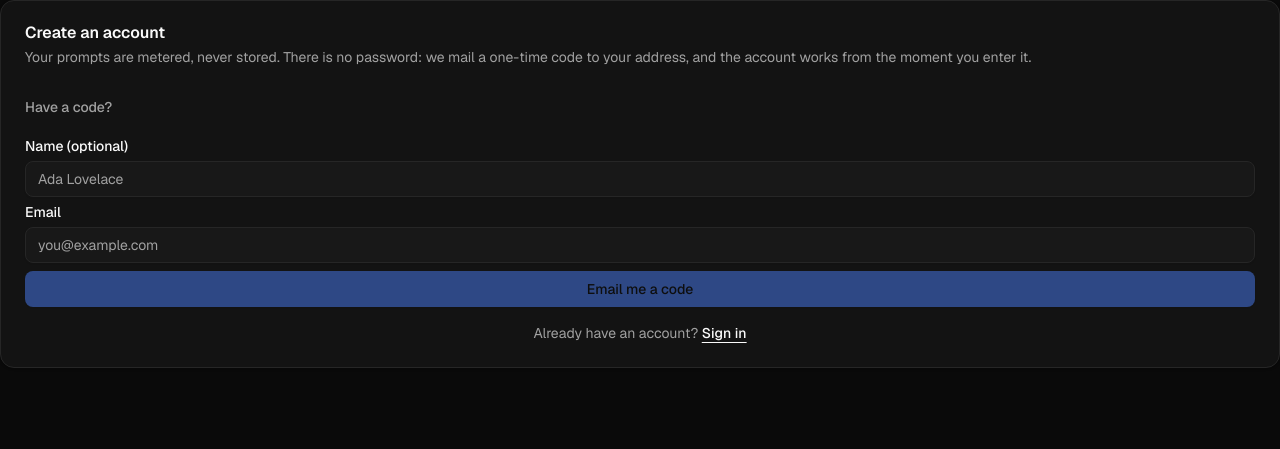
it: SignUpForm › says a wrong code is wrong, and creates nothing
The width and height of the screenshot is (1280, 449).
Type "dev@example.com" into the field labelled "Email" at (640, 245), box [25,227,1255,263]
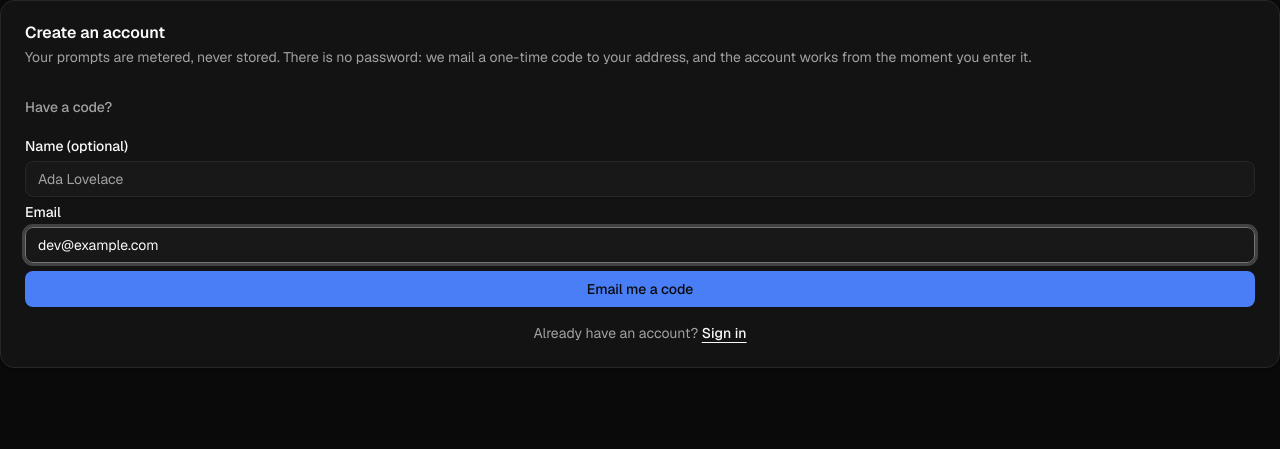
Click the button "Email me a code" at (640, 289), box [25,271,1255,307]
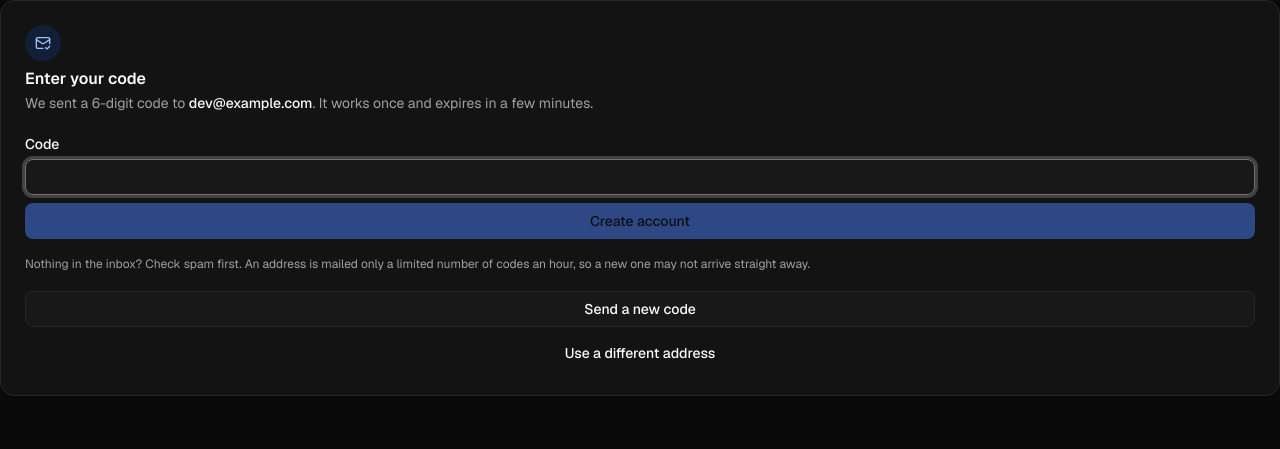
Type "123456" into the field labelled "Code" at (640, 177), box [25,159,1255,195]
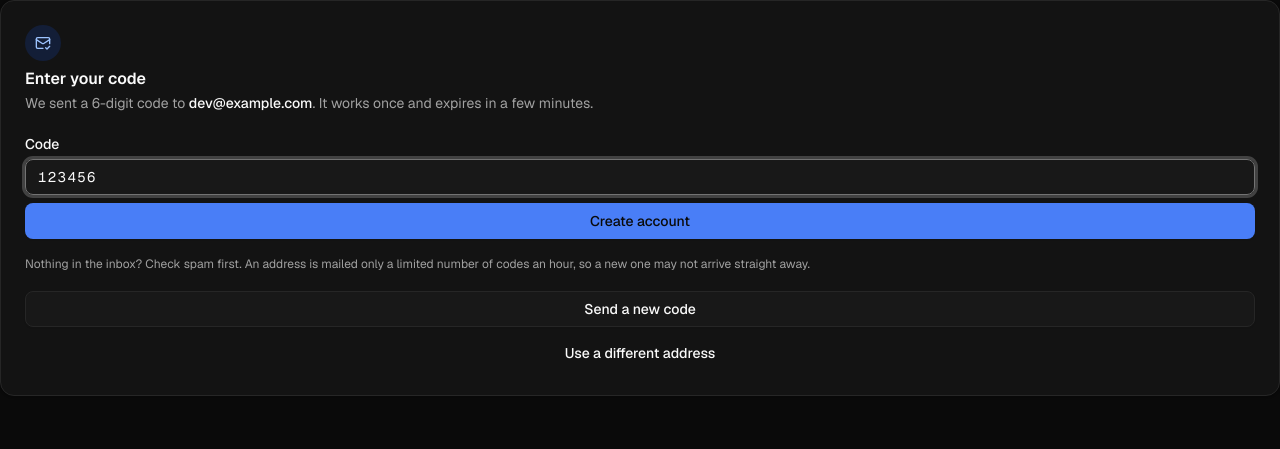
Click the button "Create account" at (640, 221), box [25,203,1255,239]
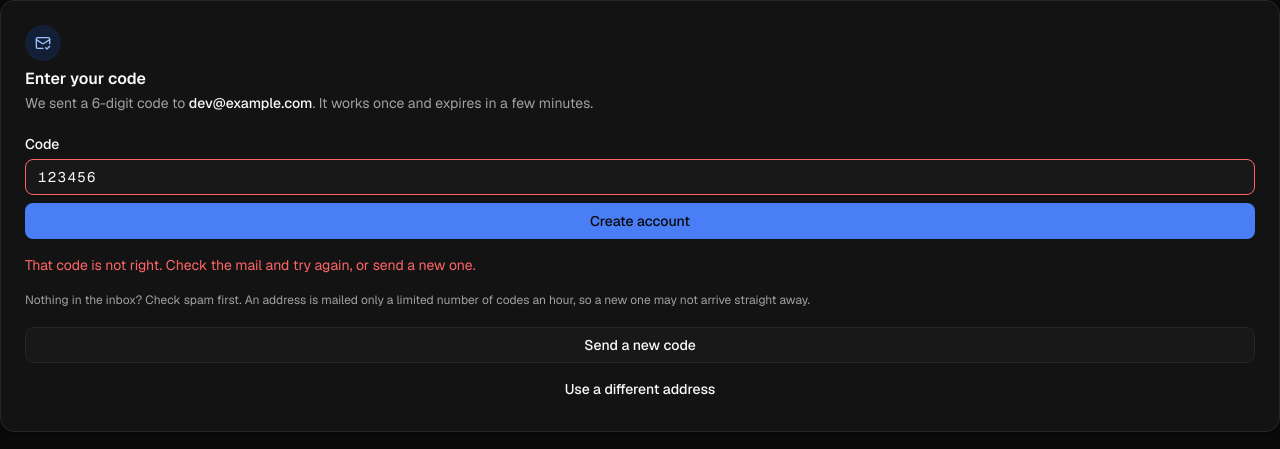
Expected: the message shows "That code is not right", [25,256,476,274]
